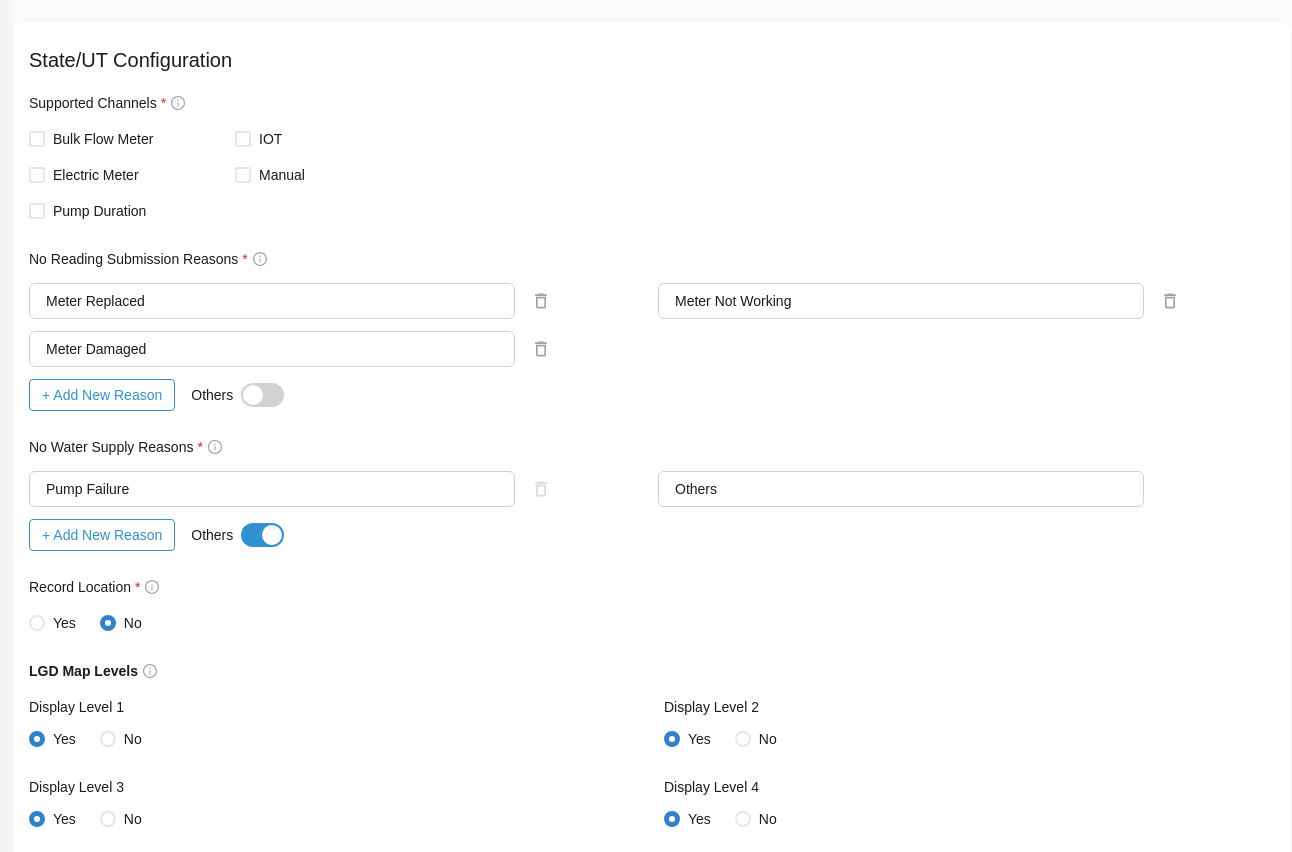
ConfigurationPage › shows inline error for average members <= 0 on save
Step 1. Click the text "IOT" → point(271, 139), box [259,127,282,151]
(page scrolled)
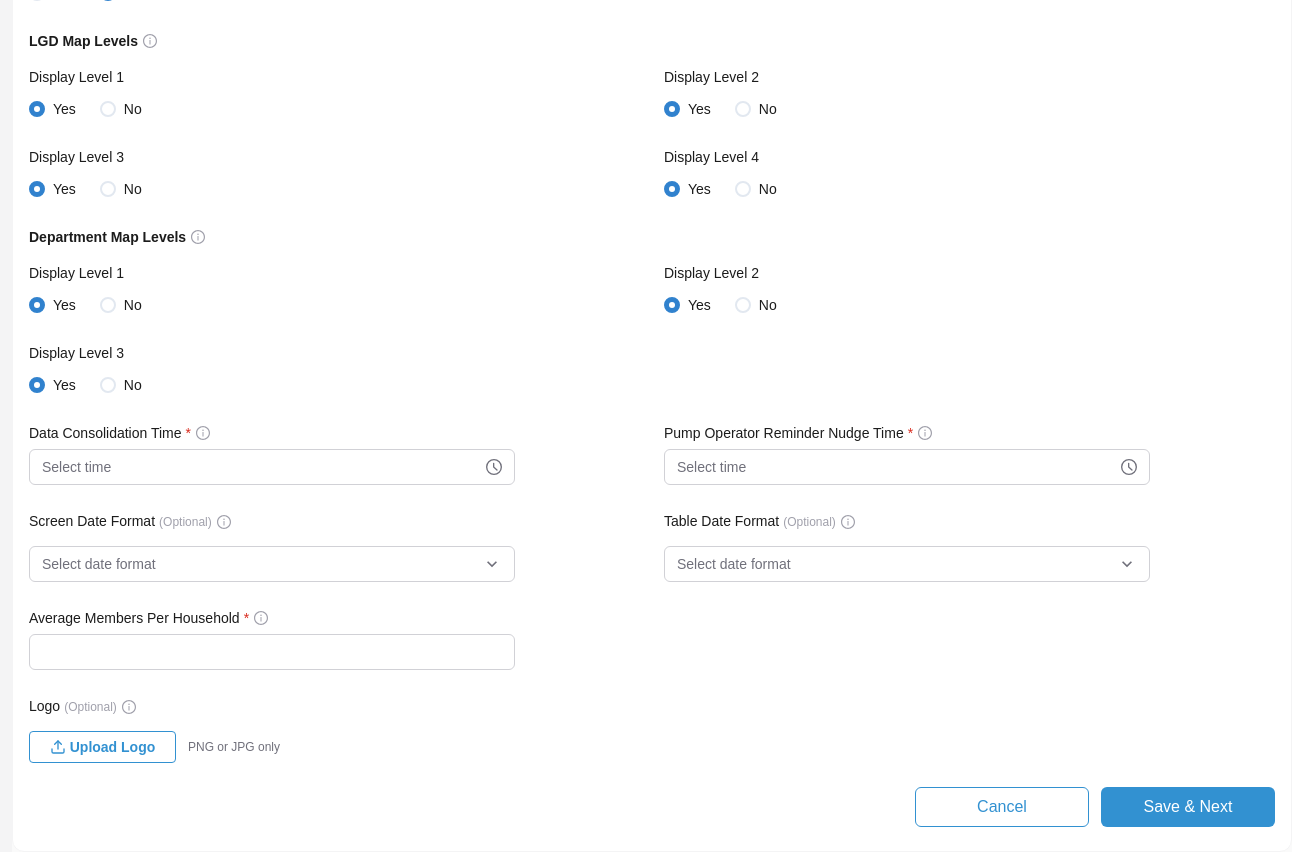
Step 2. Click the button "Save & Next" → point(1188, 807), box [1101,787,1275,827]
(page scrolled)
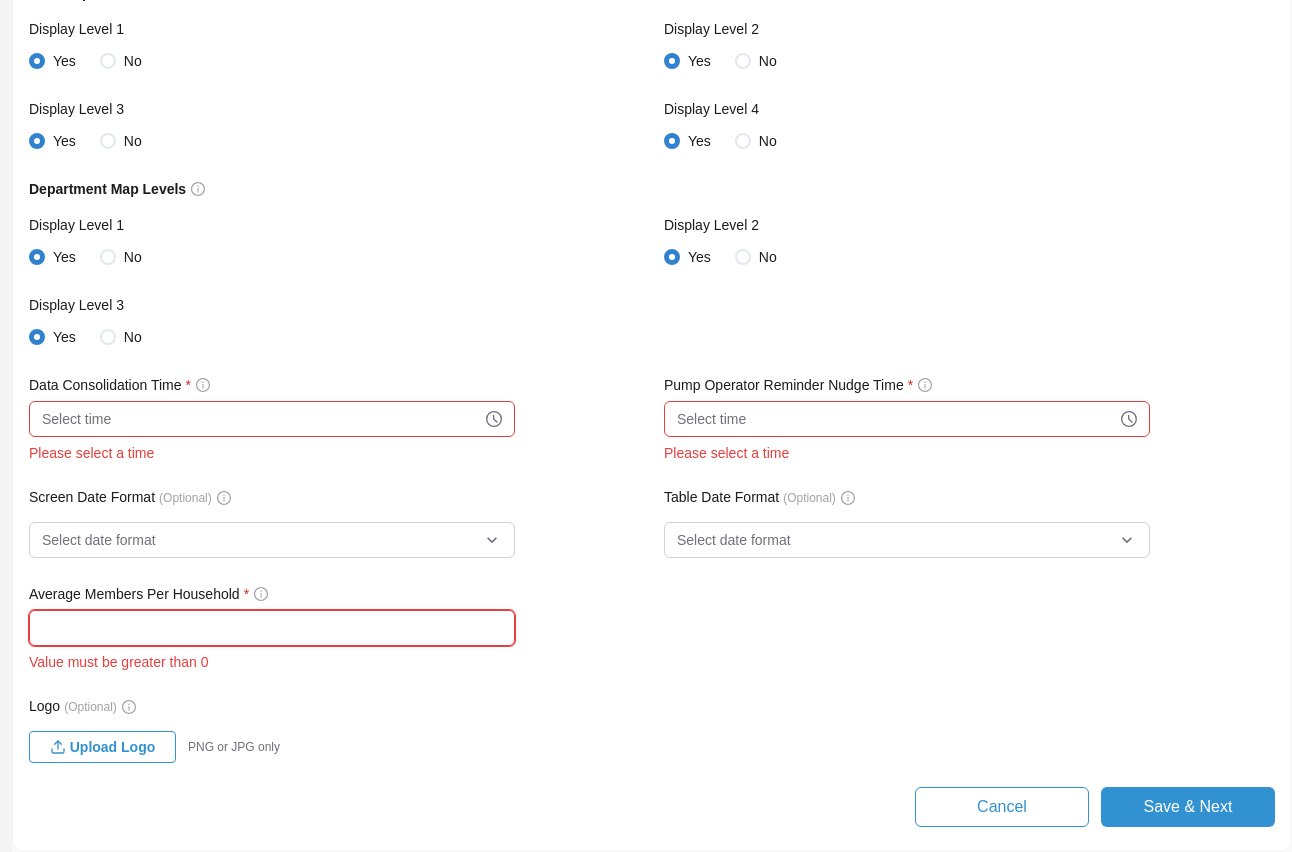
Result: the text "Value must be greater than 0" is shown at [29,654,208,670]
